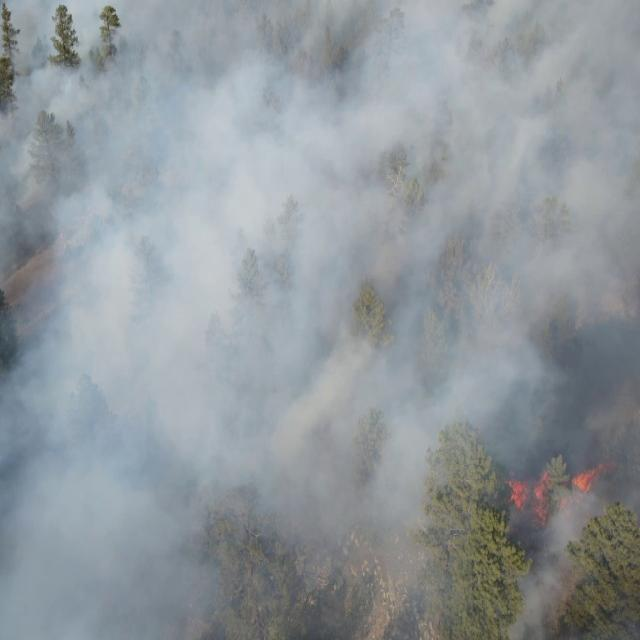fire: (501, 455, 614, 525)
smoke: (0, 0, 640, 640)
